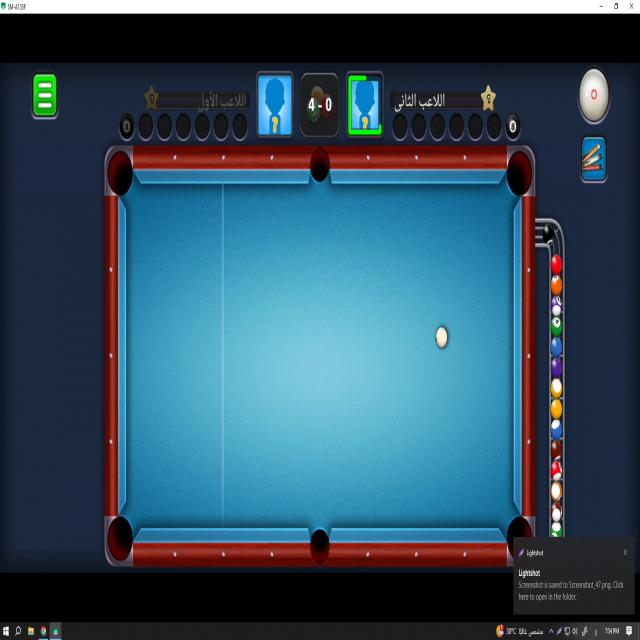white_cue_ball: (436, 327, 447, 348)
